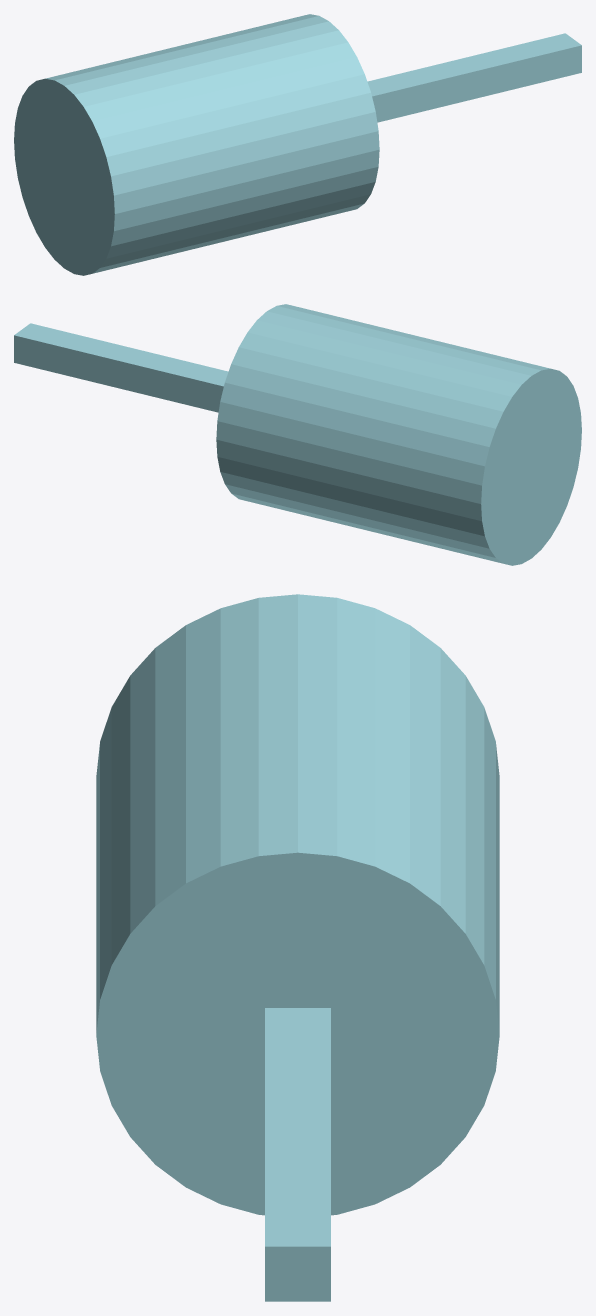
File: cylinder_screwdriver_v3006.obj
3 renders of one model, top to bottom at view 1: azimuth 30°, elevation 25°; view 2: azimuth 150°, elevation 25°; view 3: azimuth 270°, elevation 25°, orthographic. The views are drawn at different scales.
Bounding box in the file's own units: 0.2259 × 0.0775 × 0.0775.
Materials: 1 (1 with a texture image).
